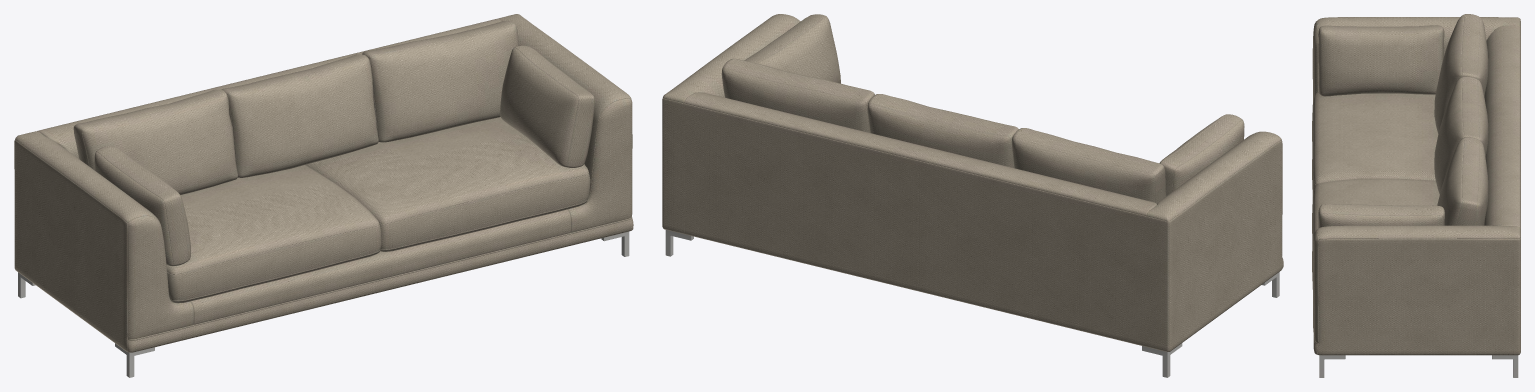
File: sofa-track-arm.glb
The picture shows the model from 3 angles, left to right: view 1: azimuth 30°, elevation 25°; view 2: azimuth 150°, elevation 25°; view 3: azimuth 270°, elevation 25°; orthographic projection. The views are drawn at different scales.
Visible parts, largest first — view 1: RootNode; view 2: RootNode; view 3: RootNode.
Part boxes in pixels (<box>): RootNode: <box>14,14,633,377</box>; RootNode: <box>662,14,1283,377</box>; RootNode: <box>1312,14,1520,377</box>.
Bounding box in the file's own units: 2.41 × 0.838 × 0.965.
1 material, 1 textured.
